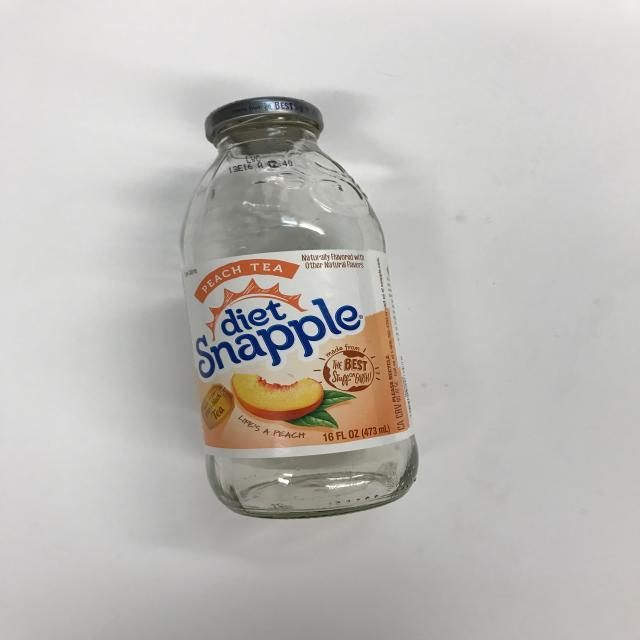glass: (175, 97, 422, 520)
